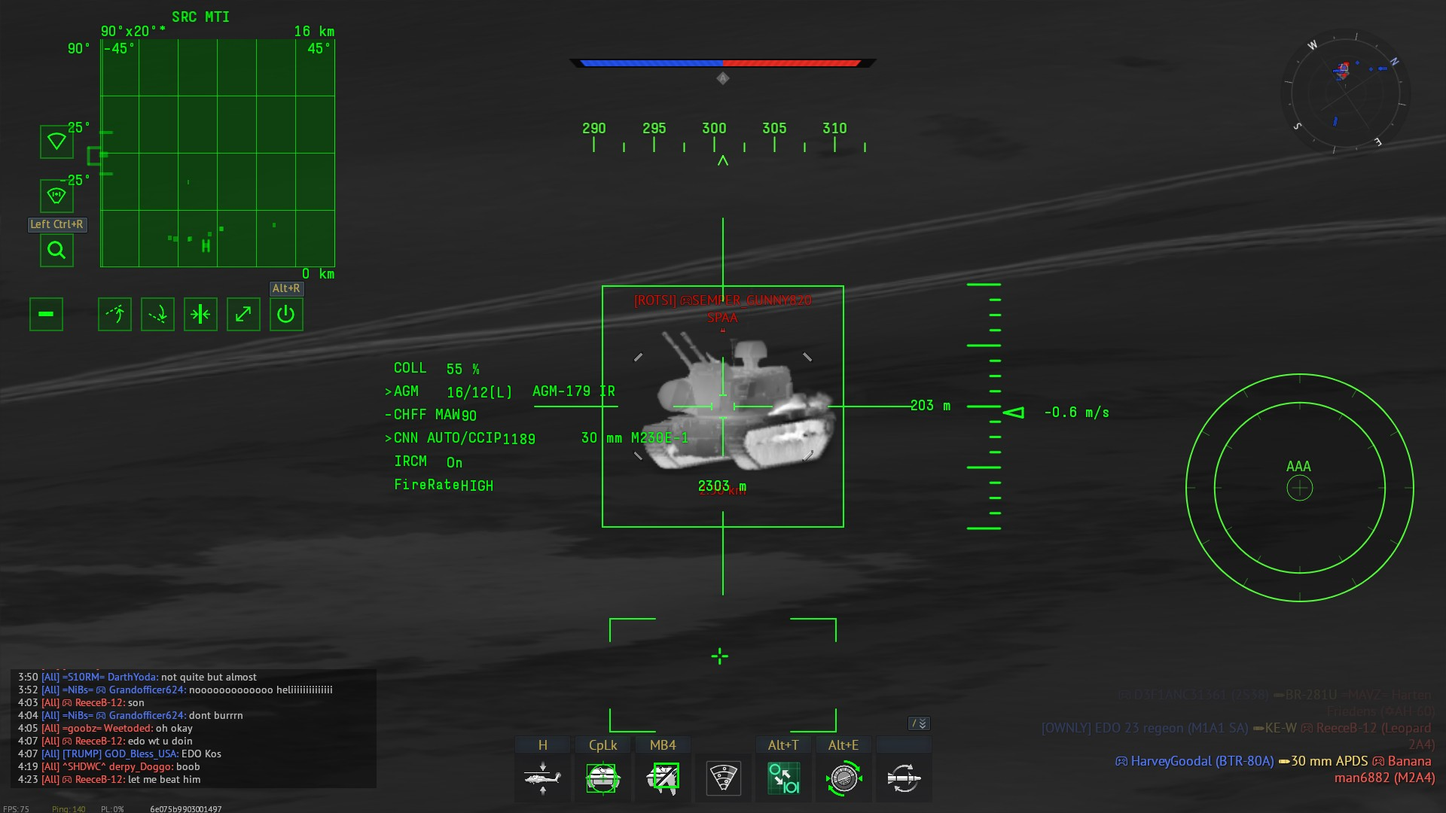spaa_gepard: (640, 329, 837, 475)
